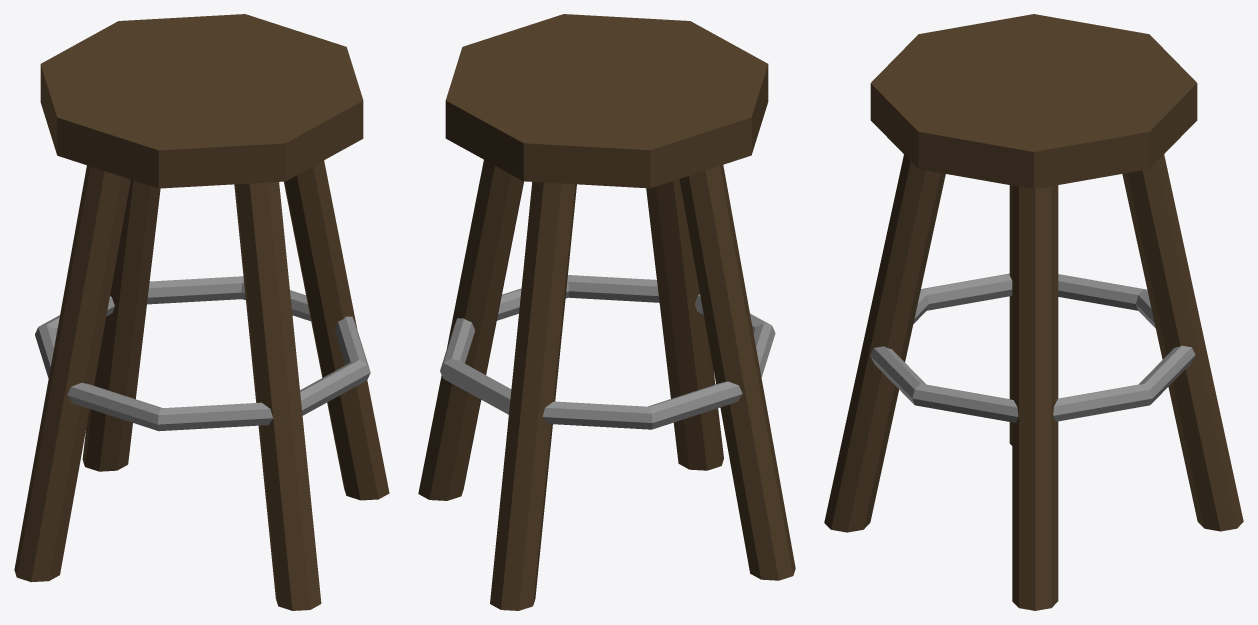
The model's file is LowPolyStool.glb.
3 views of the same model, side by side, from view 1: azimuth 30°, elevation 25°; view 2: azimuth 150°, elevation 25°; view 3: azimuth 270°, elevation 25° (orthographic). The views are drawn at different scales.
Parts seen in each view (by area): view 1: Stool2; view 2: Stool2; view 3: Stool2.
Boxes of the visible parts, left/top/right/bottom form: Stool2: left=14, top=14, right=389, bottom=610; Stool2: left=418, top=14, right=795, bottom=610; Stool2: left=824, top=14, right=1243, bottom=610.
Bounding box in the file's own units: 2.57 × 2.97 × 2.57.
